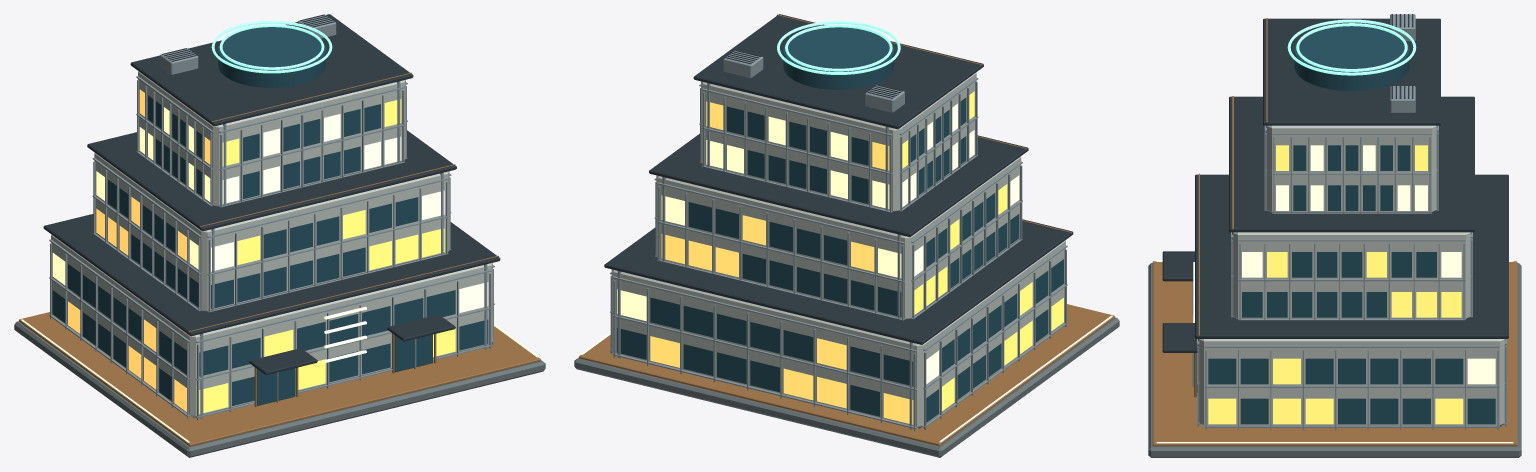
File: memory-archive.lod0.glb
The picture shows the model from 3 angles, left to right: view 1: azimuth 30°, elevation 25°; view 2: azimuth 150°, elevation 25°; view 3: azimuth 270°, elevation 25°; orthographic projection. The views are drawn at different scales.
Visible parts, largest first — view 1: structure; view 2: structure; view 3: structure.
Part boxes in pixels (<box>): structure: <box>14,14,545,457</box>; structure: <box>574,14,1119,457</box>; structure: <box>1148,14,1521,457</box>.
Size of the model in its own units: 26 by 20.78 by 22.
